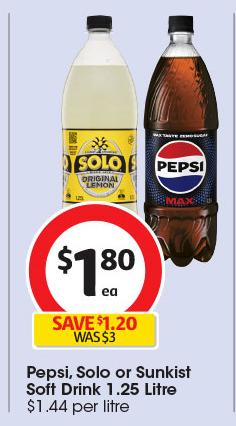description_block: (20, 357, 196, 400)
price_main: (30, 220, 157, 311)
product_image_block: (107, 13, 221, 269)
promo_text_block: (25, 311, 168, 350)
unit_price_block: (19, 398, 134, 416)
